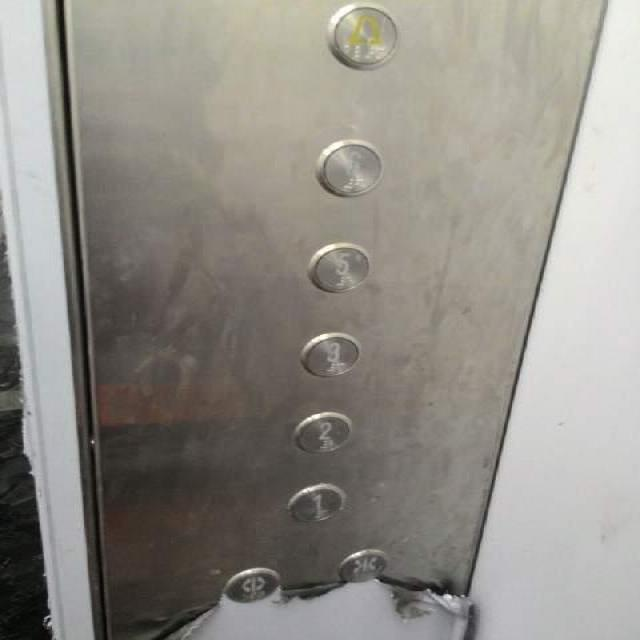1: (281, 480, 348, 525)
2: (289, 408, 355, 456)
3: (294, 328, 362, 380)
5: (303, 239, 373, 295)
6: (311, 137, 385, 199)
alarm: (321, 1, 404, 73)
close: (335, 546, 388, 583)
open: (220, 565, 283, 604)
